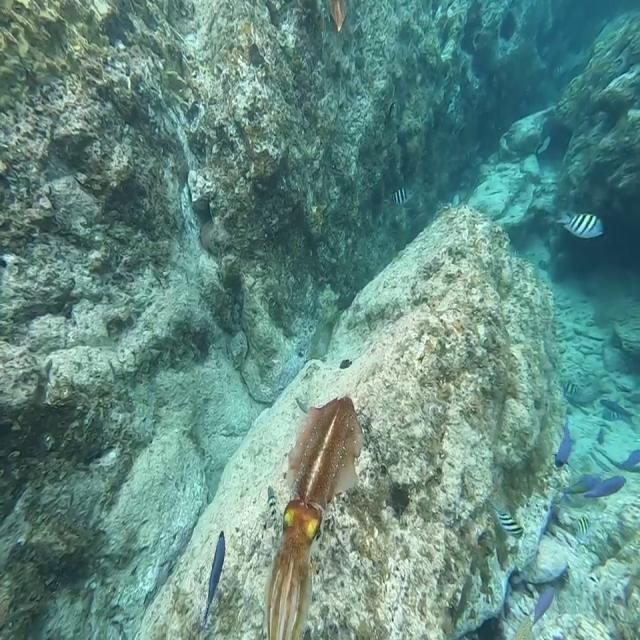squid: (264, 398, 361, 640)
